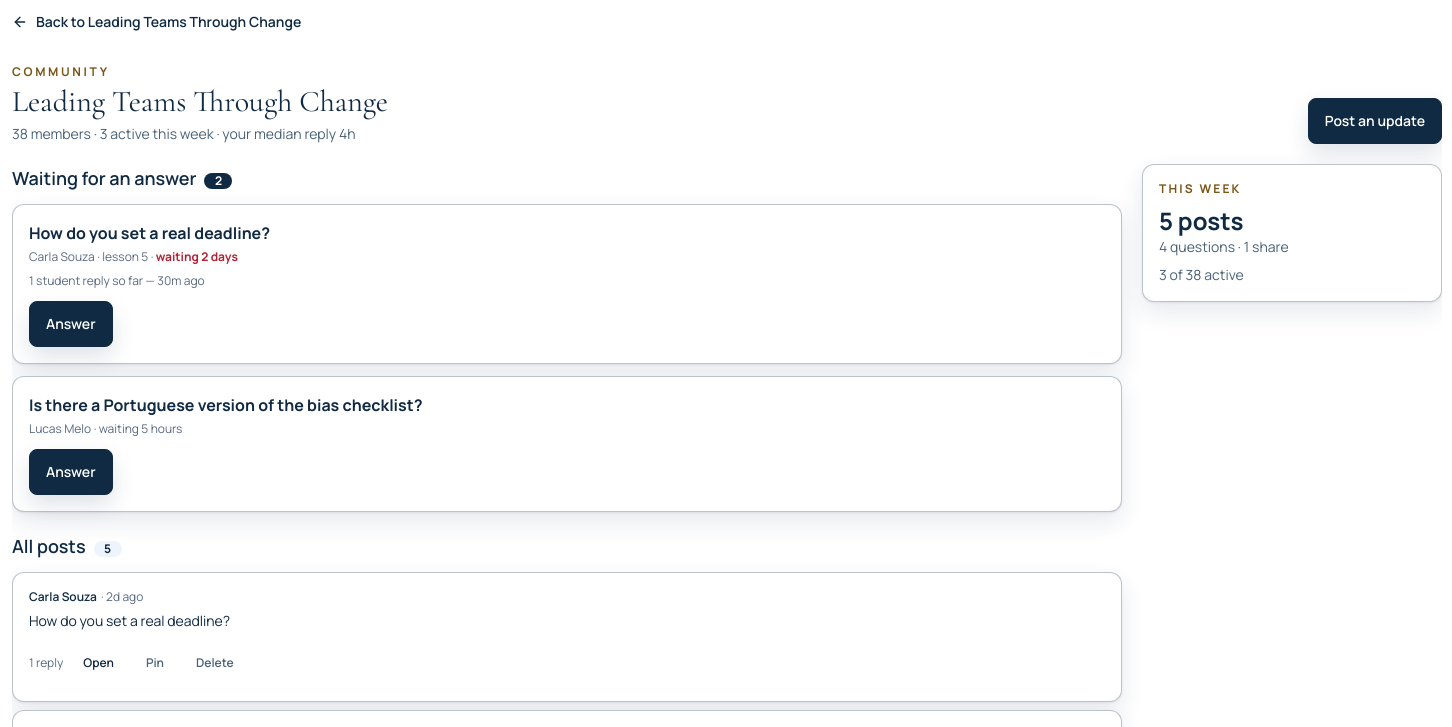
Test: caixa de entrada da comunidade (professor) › teto por hora do banco na resposta: pede para esperar e nao marca nada
Step 1. Click the button "Answer" below "1 student reply so far" → [71, 324], box x1=29 y1=301 x2=113 y2=347
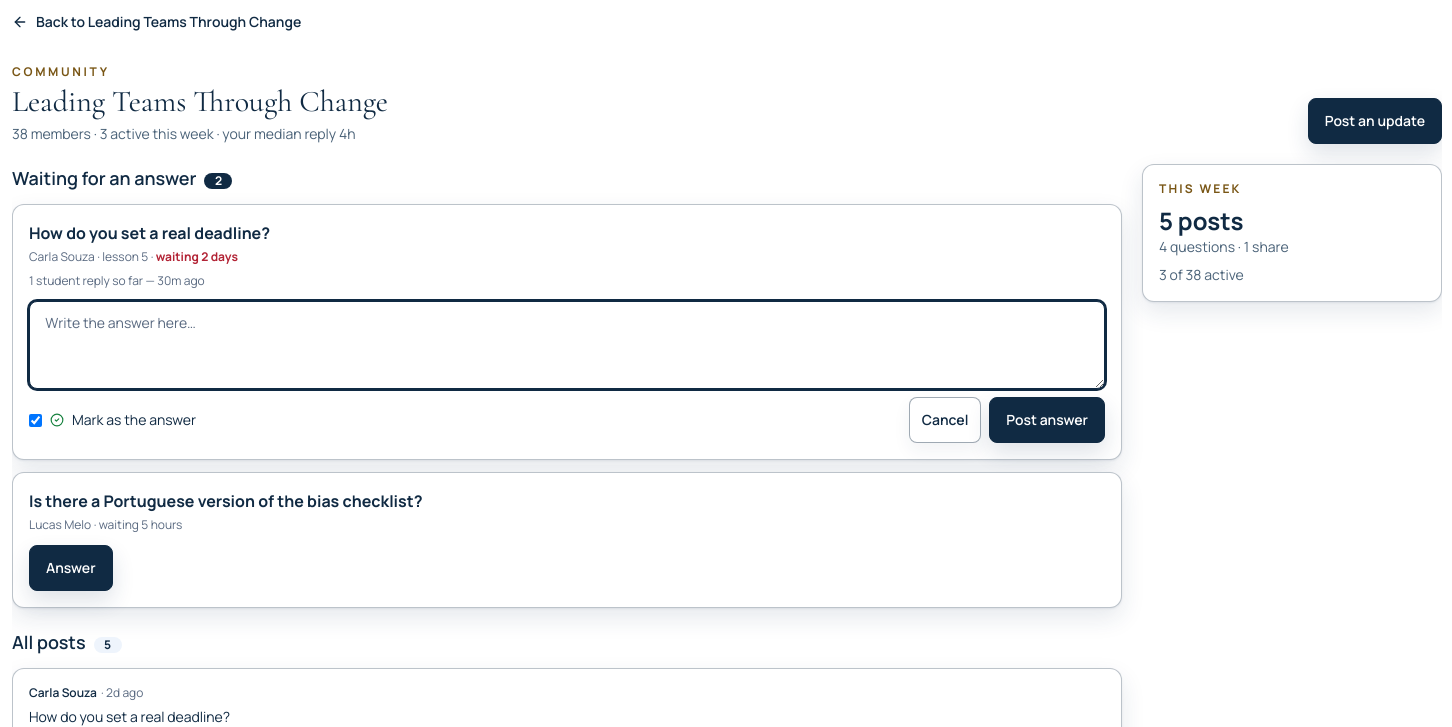
Step 2. Type "Show the constraint, not the pressure." into the text box with placeholder "Write the answer here…" → [567, 345], box x1=29 y1=301 x2=1105 y2=389
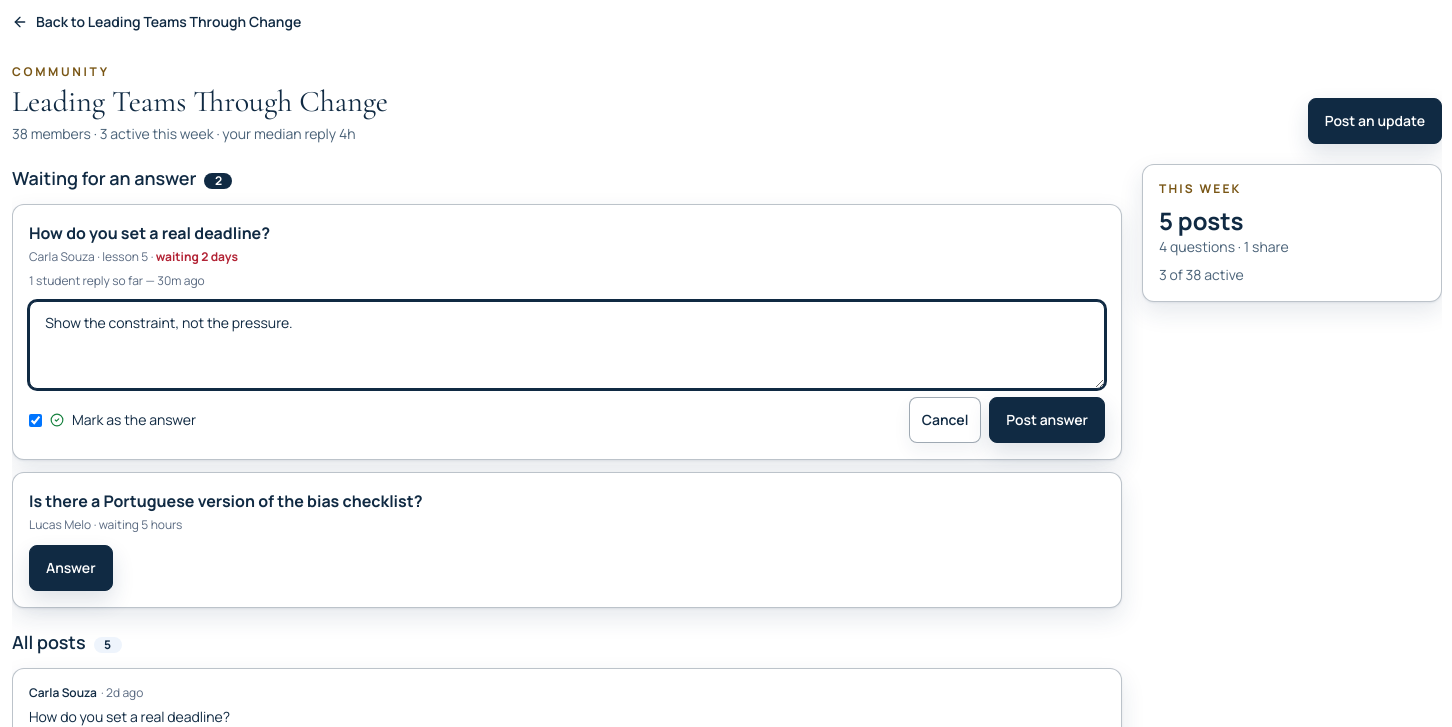
Step 3. Click the button "Post answer" → [1047, 420], box x1=989 y1=397 x2=1105 y2=443
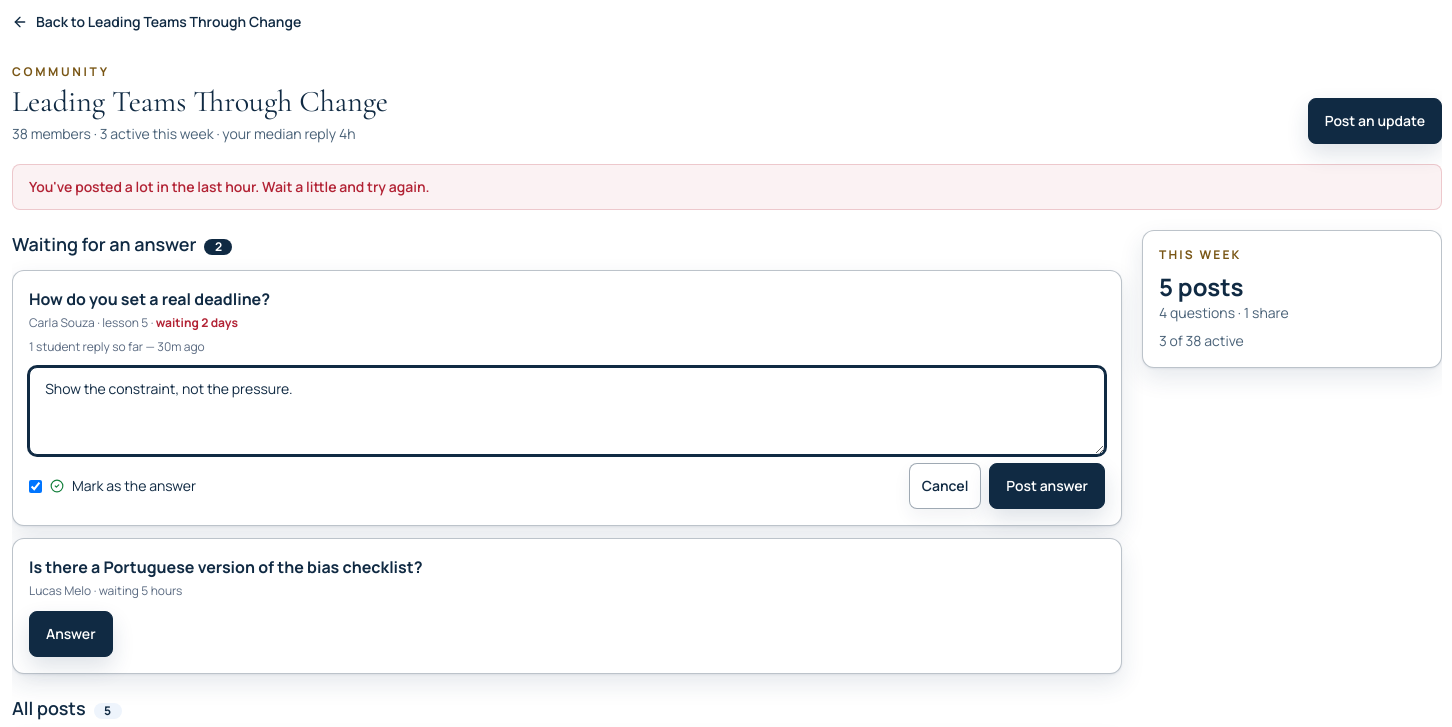
Result: the text "You've posted a lot in the last hour. Wait a little and try again." is shown at x1=12 y1=164 x2=1442 y2=210
